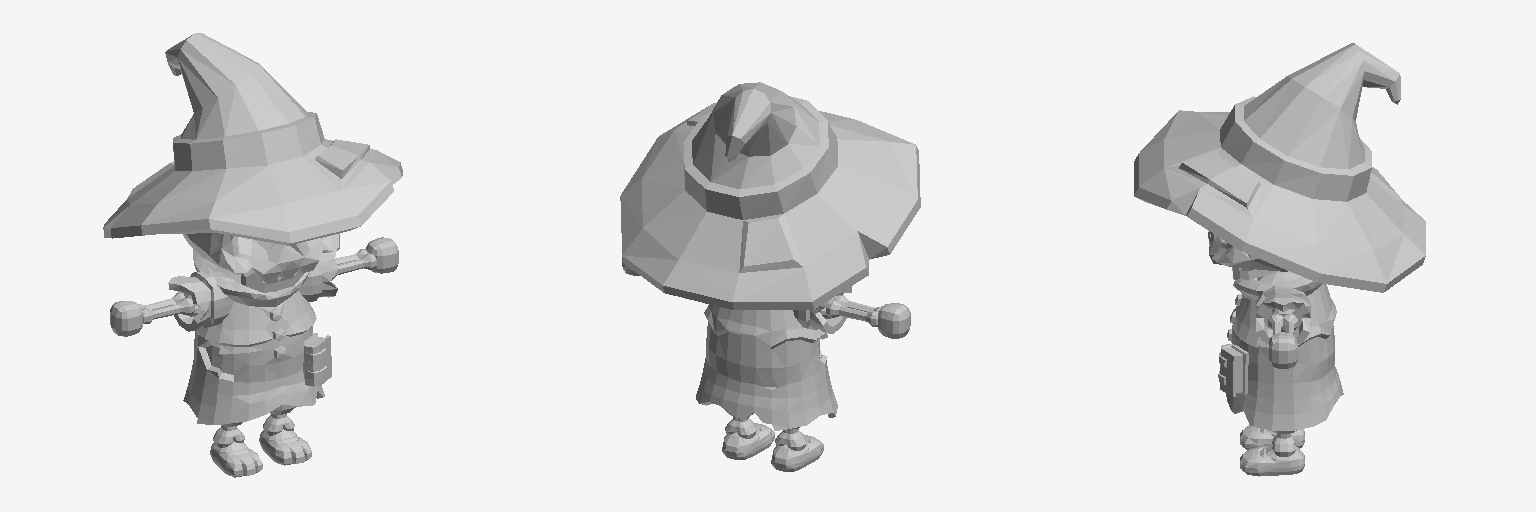
The model's file is Skeleton_Arrow.obj.
3 renders of one model, left to right at view 1: azimuth 30°, elevation 25°; view 2: azimuth 150°, elevation 25°; view 3: azimuth 270°, elevation 25°, orthographic.
Visible parts, largest first — view 1: Skeleton_Mage_Hat, Skeleton_Mage_Body, Skeleton_Mage_Skull, Skeleton_Mage_ArmRight, Skeleton_Mage_ArmLeft, Skeleton_Mage_LegLeft, Skeleton_Mage_LegRight, Skeleton_Mage_Jaw; view 2: Skeleton_Mage_Hat, Skeleton_Mage_Body, Skeleton_Mage_ArmRight, Skeleton_Mage_LegLeft, Skeleton_Mage_LegRight; view 3: Skeleton_Mage_Hat, Skeleton_Mage_Body, Skeleton_Mage_ArmLeft, Skeleton_Mage_LegLeft, Skeleton_Mage_Skull, Skeleton_Mage_LegRight.
Part boxes in pixels (left/top/right/bottom): Skeleton_Mage_Hat: left=103, top=33, right=402, bottom=245; Skeleton_Mage_Body: left=183, top=249, right=331, bottom=424; Skeleton_Mage_Skull: left=183, top=233, right=339, bottom=281; Skeleton_Mage_ArmRight: left=110, top=271, right=235, bottom=336; Skeleton_Mage_ArmLeft: left=299, top=237, right=398, bottom=301; Skeleton_Mage_LegLeft: left=259, top=405, right=311, bottom=465; Skeleton_Mage_LegRight: left=210, top=422, right=262, bottom=477; Skeleton_Mage_Jaw: left=241, top=269, right=303, bottom=292; Skeleton_Mage_Hat: left=620, top=82, right=920, bottom=309; Skeleton_Mage_Body: left=696, top=304, right=837, bottom=430; Skeleton_Mage_ArmRight: left=793, top=286, right=910, bottom=338; Skeleton_Mage_LegLeft: left=721, top=406, right=774, bottom=459; Skeleton_Mage_LegRight: left=771, top=427, right=823, bottom=471; Skeleton_Mage_Hat: left=1134, top=43, right=1425, bottom=292; Skeleton_Mage_Body: left=1218, top=271, right=1343, bottom=430; Skeleton_Mage_ArmLeft: left=1255, top=286, right=1310, bottom=368; Skeleton_Mage_LegLeft: left=1240, top=430, right=1304, bottom=476; Skeleton_Mage_Skull: left=1208, top=231, right=1287, bottom=271; Skeleton_Mage_LegRight: left=1240, top=425, right=1304, bottom=449.
Bounding box in the file's own units: 1.94 × 2.63 × 1.74.